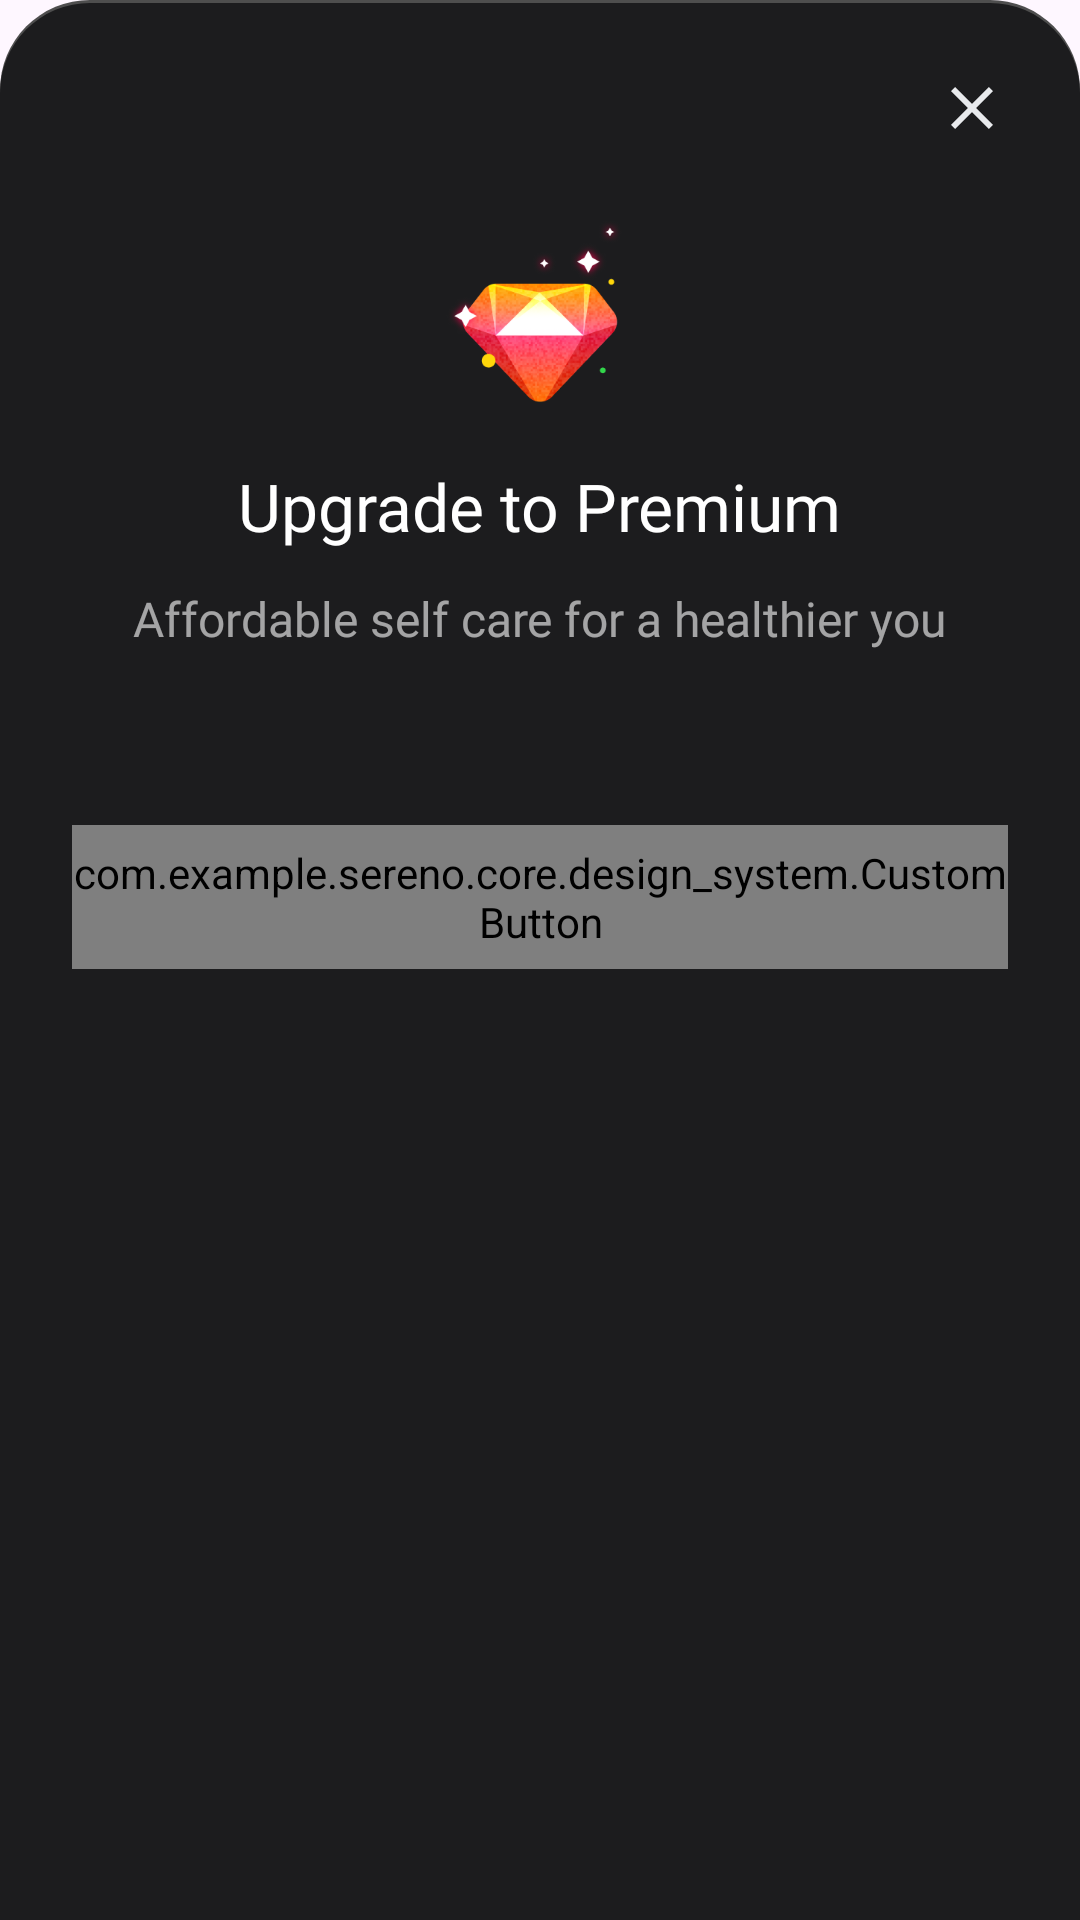

Locate icon controls on the screen. Image size 1080w x 1920h, boxes as (x1, y1, x2, y2).
close: (951, 87, 993, 129)
